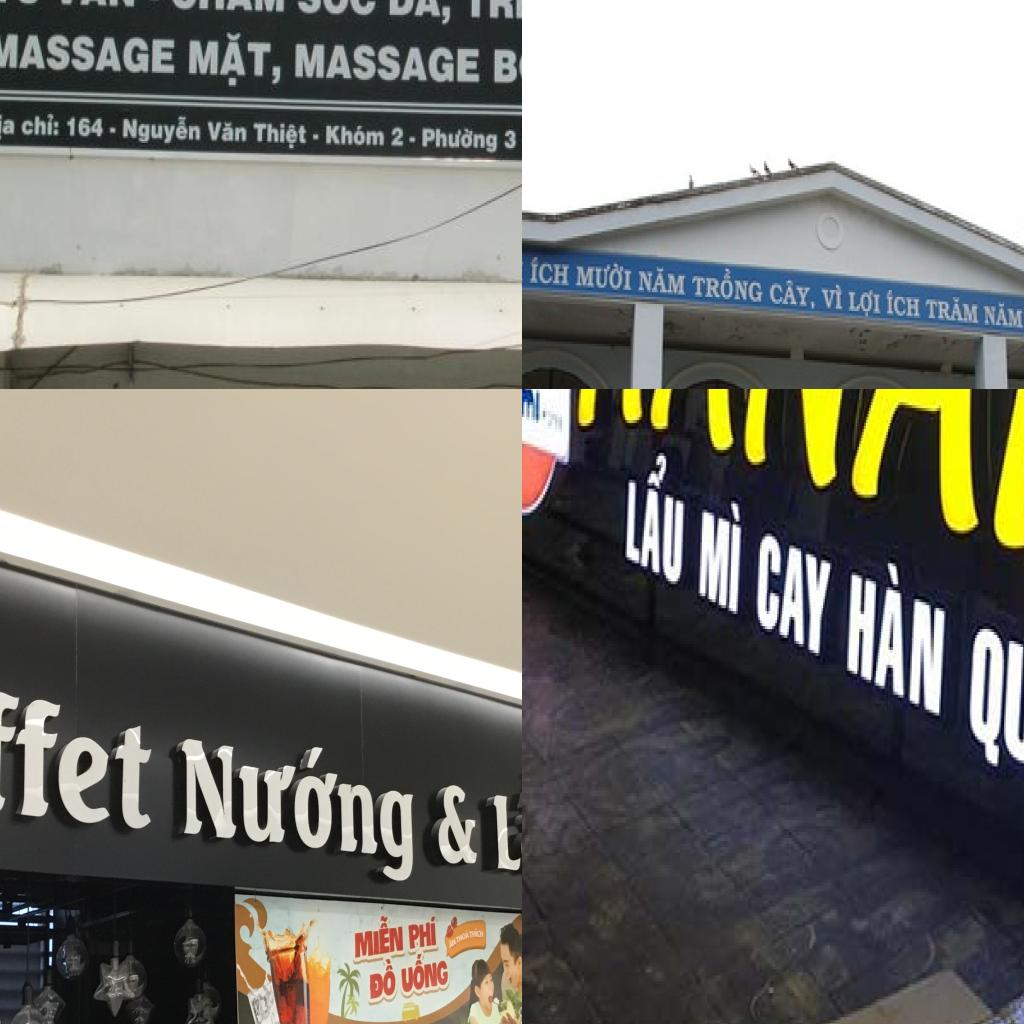text: (572, 389, 1024, 682), (178, 722, 418, 887), (0, 655, 159, 837), (845, 536, 951, 724), (959, 584, 1024, 835), (753, 524, 837, 665), (622, 435, 692, 596), (293, 40, 482, 86), (0, 31, 177, 76), (697, 489, 751, 623), (185, 30, 285, 92), (434, 780, 479, 869), (489, 763, 522, 879), (688, 264, 766, 309), (120, 109, 203, 150), (420, 122, 500, 158), (767, 274, 820, 320), (353, 914, 404, 960), (400, 949, 449, 995), (574, 262, 636, 297), (168, 0, 288, 18), (387, 0, 453, 32), (322, 119, 386, 152), (926, 295, 982, 332), (252, 119, 310, 152), (527, 252, 574, 292), (638, 267, 687, 304), (983, 299, 1024, 336), (295, 0, 379, 18), (846, 288, 886, 325), (462, 0, 522, 23), (887, 288, 924, 325), (491, 45, 522, 88), (19, 111, 61, 141), (368, 956, 396, 1001), (206, 116, 249, 144), (522, 389, 551, 428), (407, 915, 437, 951), (65, 116, 106, 141), (822, 283, 846, 313), (0, 112, 16, 142), (501, 126, 518, 153), (389, 126, 405, 151), (456, 929, 470, 946), (469, 927, 484, 940), (447, 936, 457, 950)
